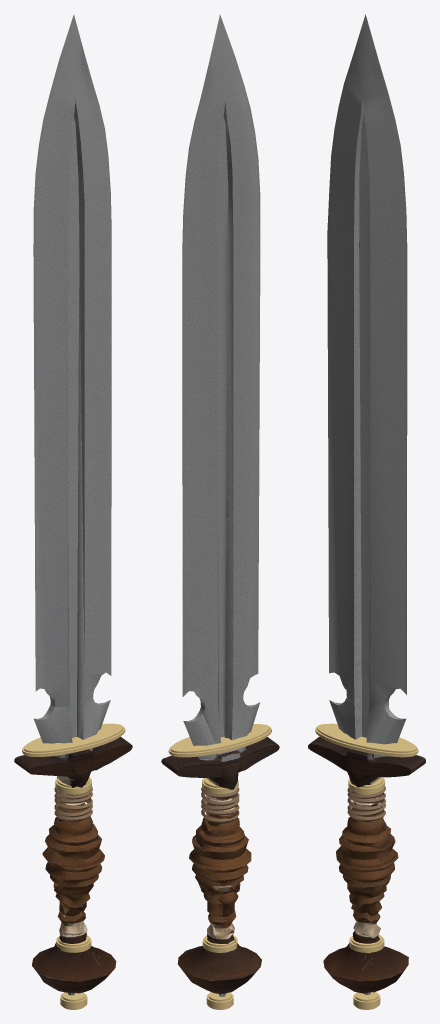
File: weap_roman_gladius_pompeii_0.glb
3 views of the same model, side by side, from view 1: azimuth 30°, elevation 25°; view 2: azimuth 210°, elevation 25°; view 3: azimuth 330°, elevation 25° (orthographic).
Parts seen in each view (by area): view 1: MeshyGear_weap_roman_gladius_pompeii, Q_GE3_GuardPlate, Q_LE0_RepairThong, Q_GE3_PeenBlock, Q_GE4_GripFerruleLower, Q_GE4_GripFerruleUpper; view 2: MeshyGear_weap_roman_gladius_pompeii, Q_GE3_GuardPlate, Q_LE0_RepairThong, Q_GE3_PeenBlock, Q_GE4_GripFerruleLower, Q_GE4_GripFerruleUpper; view 3: MeshyGear_weap_roman_gladius_pompeii, Q_GE3_GuardPlate, Q_LE0_RepairThong, Q_GE3_PeenBlock, Q_GE4_GripFerruleLower, Q_GE4_GripFerruleUpper.
Boxes of the visible parts, x1=… form: MeshyGear_weap_roman_gladius_pompeii: x1=14, y1=14, x2=132, y2=995; Q_GE3_GuardPlate: x1=22, y1=723, x2=125, y2=756; Q_LE0_RepairThong: x1=54, y1=787, x2=92, y2=821; Q_GE3_PeenBlock: x1=60, y1=992, x2=87, y2=1009; Q_GE4_GripFerruleLower: x1=56, y1=935, x2=91, y2=952; Q_GE4_GripFerruleUpper: x1=55, y1=777, x2=91, y2=794; MeshyGear_weap_roman_gladius_pompeii: x1=161, y1=14, x2=279, y2=996; Q_GE3_GuardPlate: x1=168, y1=724, x2=271, y2=757; Q_LE0_RepairThong: x1=201, y1=787, x2=239, y2=822; Q_GE3_PeenBlock: x1=206, y1=992, x2=233, y2=1009; Q_GE4_GripFerruleLower: x1=202, y1=935, x2=237, y2=952; Q_GE4_GripFerruleUpper: x1=202, y1=778, x2=238, y2=794; MeshyGear_weap_roman_gladius_pompeii: x1=308, y1=14, x2=425, y2=994; Q_GE3_GuardPlate: x1=315, y1=723, x2=418, y2=757; Q_LE0_RepairThong: x1=347, y1=786, x2=385, y2=821; Q_GE3_PeenBlock: x1=353, y1=992, x2=380, y2=1009; Q_GE4_GripFerruleLower: x1=349, y1=934, x2=384, y2=953; Q_GE4_GripFerruleUpper: x1=348, y1=777, x2=384, y2=794.
Size of the model in its own units: 0.0749 by 0.685 by 0.0541.
3 materials, 1 textured.
